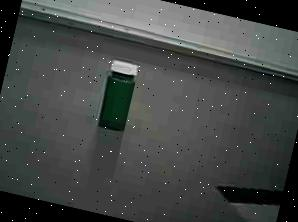Bottle C: (85, 49, 157, 141)
